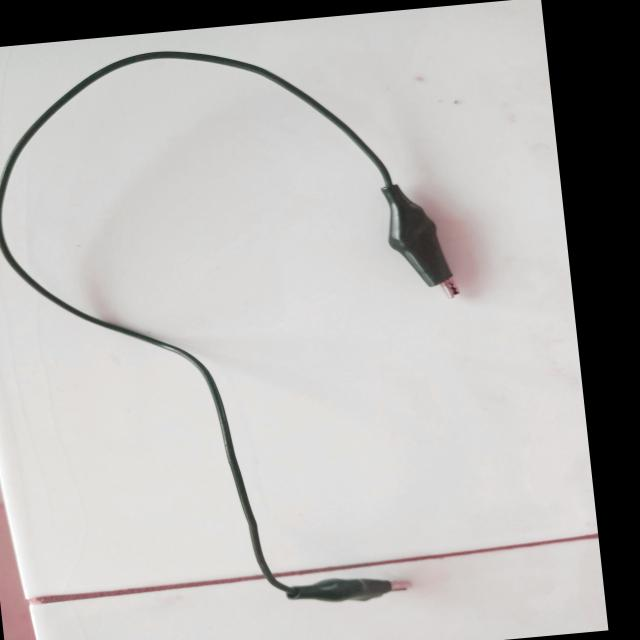BNC Cables Both Clips: (0, 17, 520, 640)
